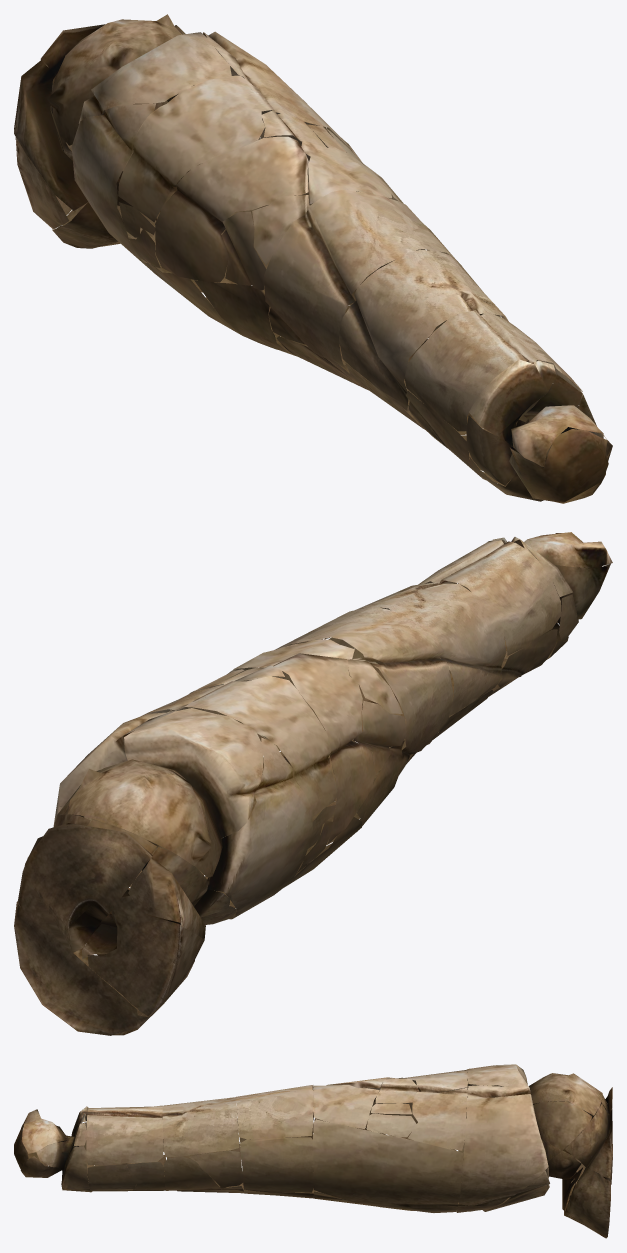
The model's file is forearm.fbx.
The picture shows the model from 3 angles, top to bottom: view 1: azimuth 30°, elevation 25°; view 2: azimuth 150°, elevation 25°; view 3: azimuth 270°, elevation 25°; orthographic projection. The views are drawn at different scales.
Visible parts, largest first — view 1: Part; view 2: Part; view 3: Part.
Part boxes in pixels (box(x1,y1,x2,y2)): Part: box(14, 14, 612, 503); Part: box(14, 532, 612, 1035); Part: box(14, 1064, 612, 1238).
Bounding box in the file's own units: 0.1027 × 0.1195 × 0.4.
